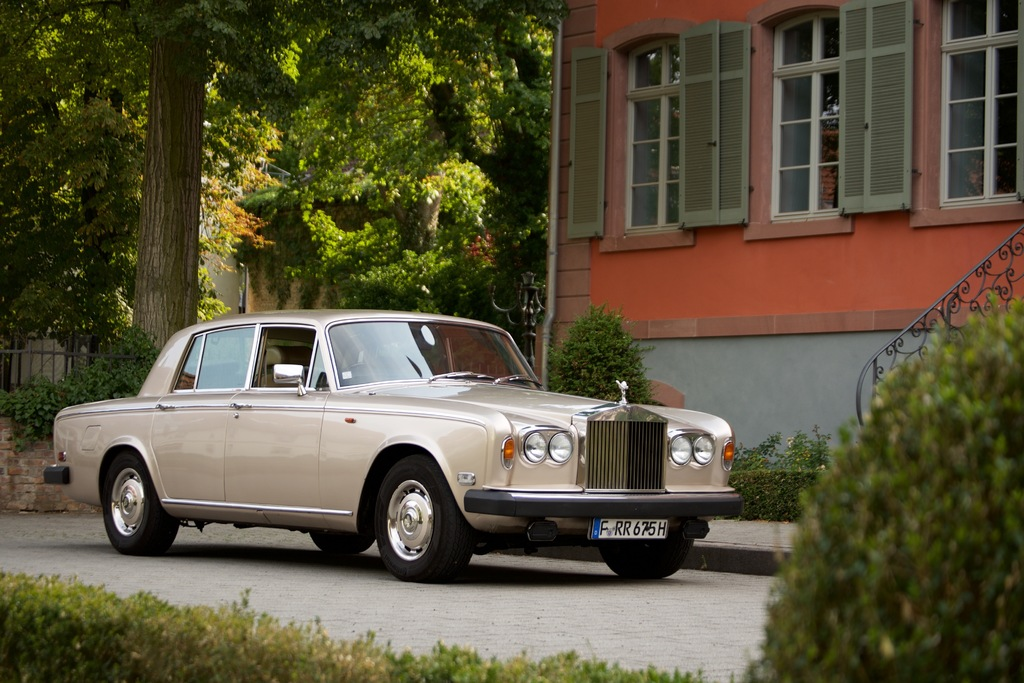Car: (56, 310, 732, 582)
